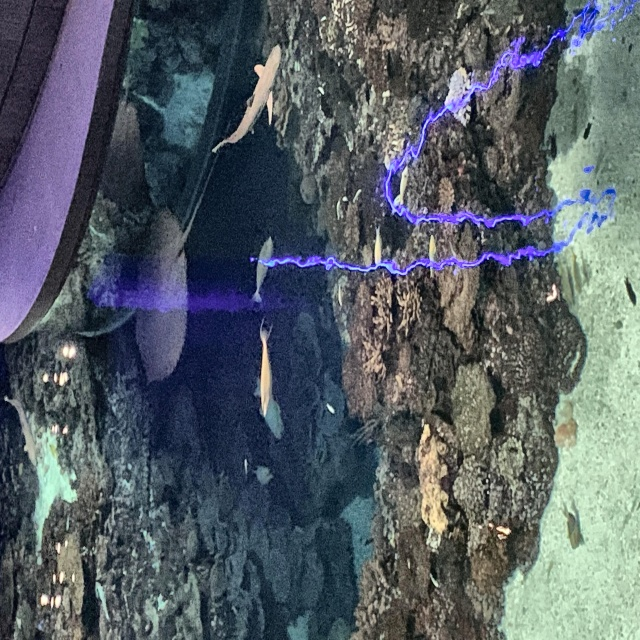fish: (255, 321, 274, 419), (253, 238, 271, 300)
shark: (210, 43, 283, 157)
stingray: (133, 206, 189, 385)
